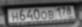license-plateSW: (7, 5, 76, 23)
